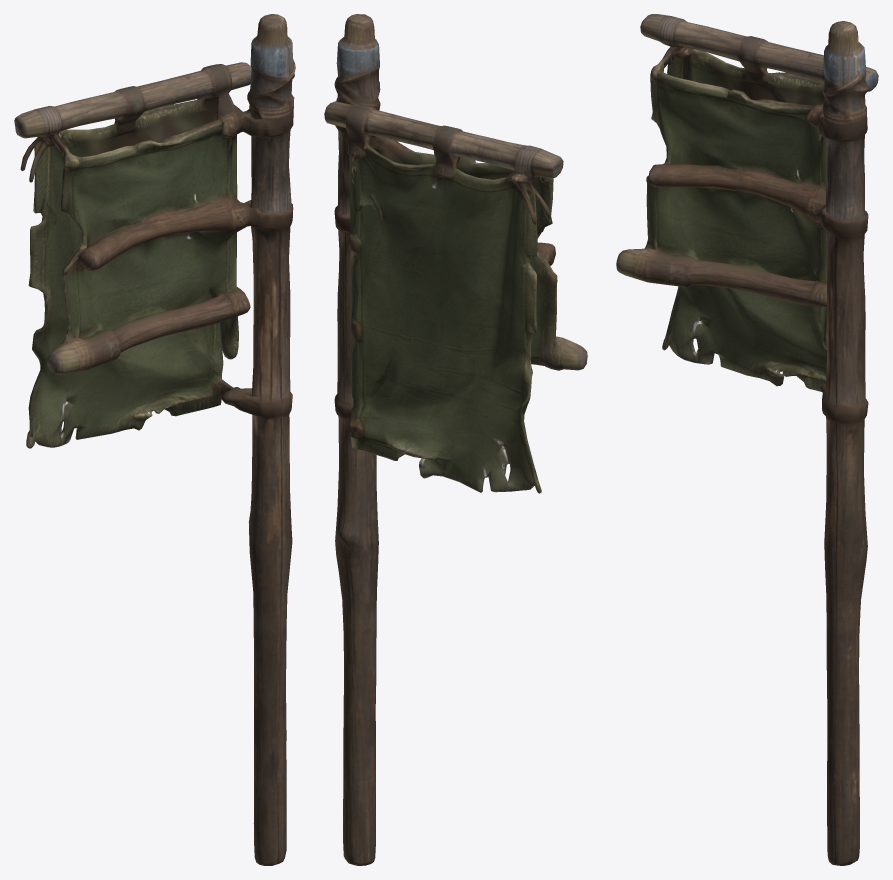
The model's file is GreenFlag.fbx.
The picture shows the model from 3 angles, left to right: view 1: azimuth 30°, elevation 25°; view 2: azimuth 150°, elevation 25°; view 3: azimuth 330°, elevation 25°; orthographic projection.
Visible parts, largest first — view 1: mesh_node; view 2: mesh_node; view 3: mesh_node.
Boxes of the visible parts, x1=… form: mesh_node: x1=14, y1=14, x2=295, y2=865; mesh_node: x1=324, y1=14, x2=587, y2=865; mesh_node: x1=616, y1=14, x2=878, y2=865.
Bounding box in the file's own units: 0.6068 × 1.98 × 0.2139.
